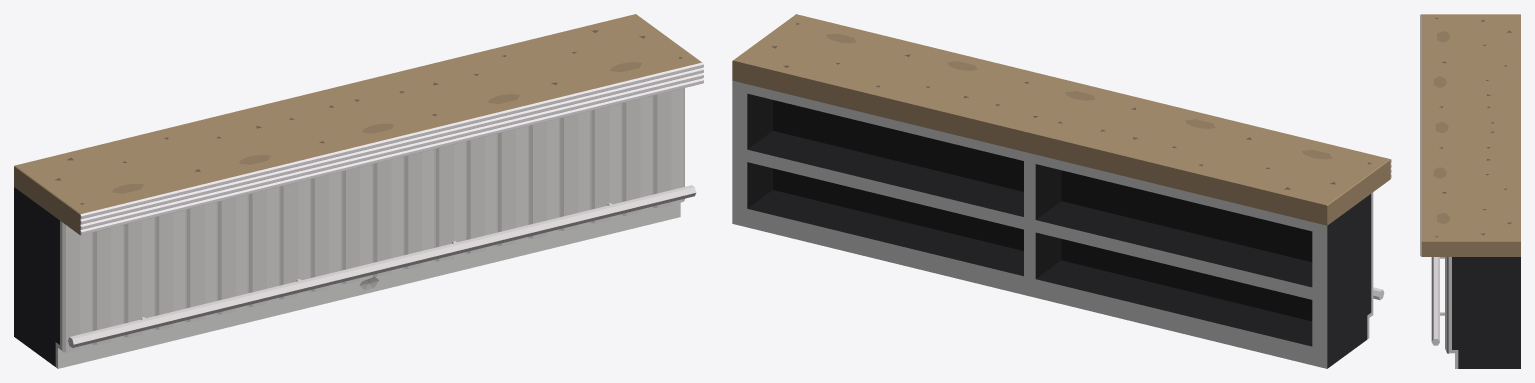
Rendered from diner-counter-run-d15517.glb.
3 renders of one model, left to right at view 1: azimuth 30°, elevation 25°; view 2: azimuth 150°, elevation 25°; view 3: azimuth 270°, elevation 25°, orthographic. The views are drawn at different scales.
Parts seen in each view (by area): view 1: counter-stainless, counter-formica, counter-chrome; view 2: counter-formica, counter-stainless; view 3: counter-formica, counter-chrome, counter-stainless.
Part boxes in pixels (box(x1,y1,x2,y2)): counter-stainless: box(55, 88, 684, 368); counter-formica: box(14, 14, 701, 366); counter-chrome: box(68, 62, 703, 347); counter-formica: box(732, 14, 1390, 368); counter-stainless: box(732, 80, 1373, 368); counter-formica: box(1421, 14, 1520, 368); counter-chrome: box(1420, 14, 1444, 345); counter-stainless: box(1445, 257, 1458, 368).
Size of the model in its own units: 4 by 1.05 by 0.75.
